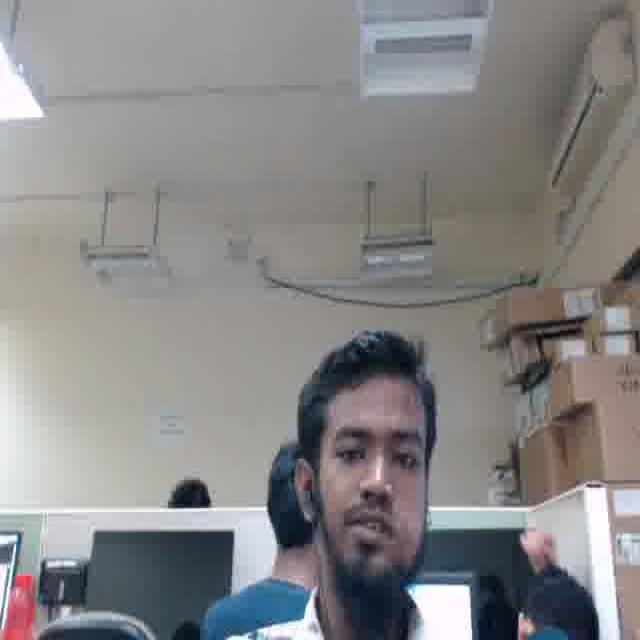Engaged: (315, 382, 429, 578)
